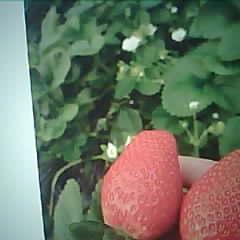straw-ripe: (100, 130, 182, 238)
